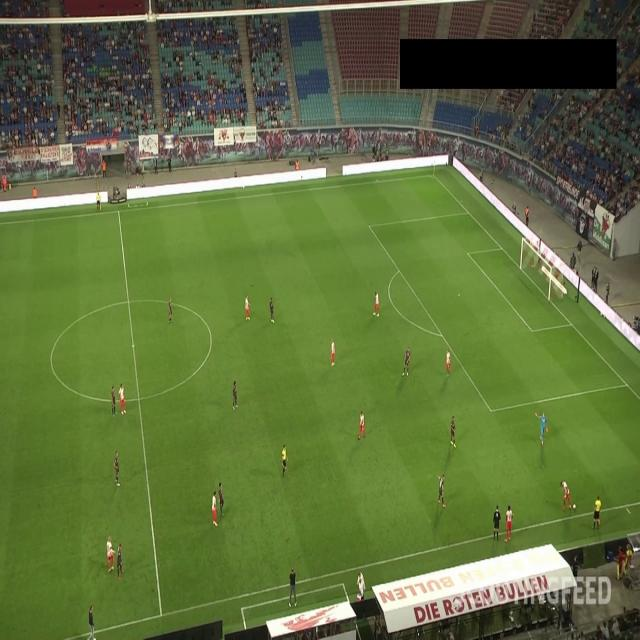ball: (572, 498, 577, 511)
player: (438, 470, 447, 507), (538, 409, 546, 449), (113, 451, 121, 490), (560, 478, 570, 509), (105, 536, 113, 573), (115, 542, 123, 575), (120, 380, 127, 414), (110, 385, 118, 414), (404, 346, 411, 378), (358, 409, 366, 437), (218, 479, 225, 510), (244, 294, 252, 321), (506, 504, 512, 539), (232, 375, 238, 410), (212, 491, 218, 524), (451, 413, 456, 449), (445, 351, 452, 374), (374, 289, 379, 320), (329, 339, 335, 364), (270, 296, 275, 324), (168, 295, 172, 319)
